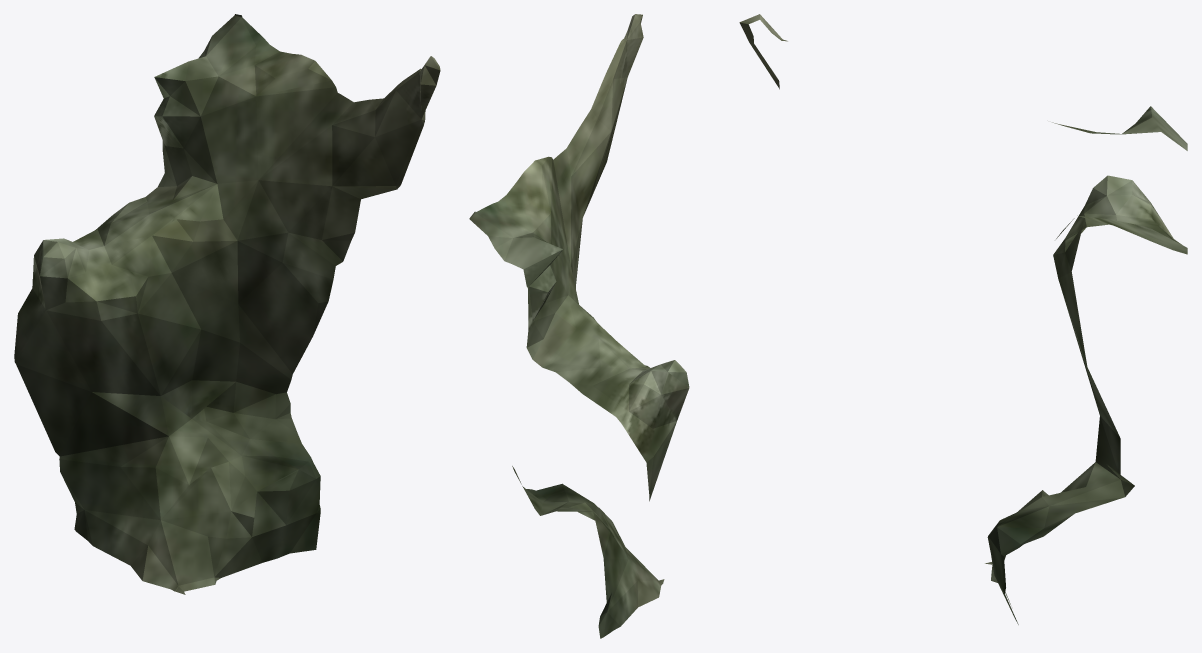
3 renders of one model, left to right at view 1: azimuth 30°, elevation 25°; view 2: azimuth 150°, elevation 25°; view 3: azimuth 270°, elevation 25°, orthographic. The views are drawn at different scales.
Size of the model in its own units: 1.02 by 2.45 by 1.6.
Materials: 1 (1 with a texture image).
